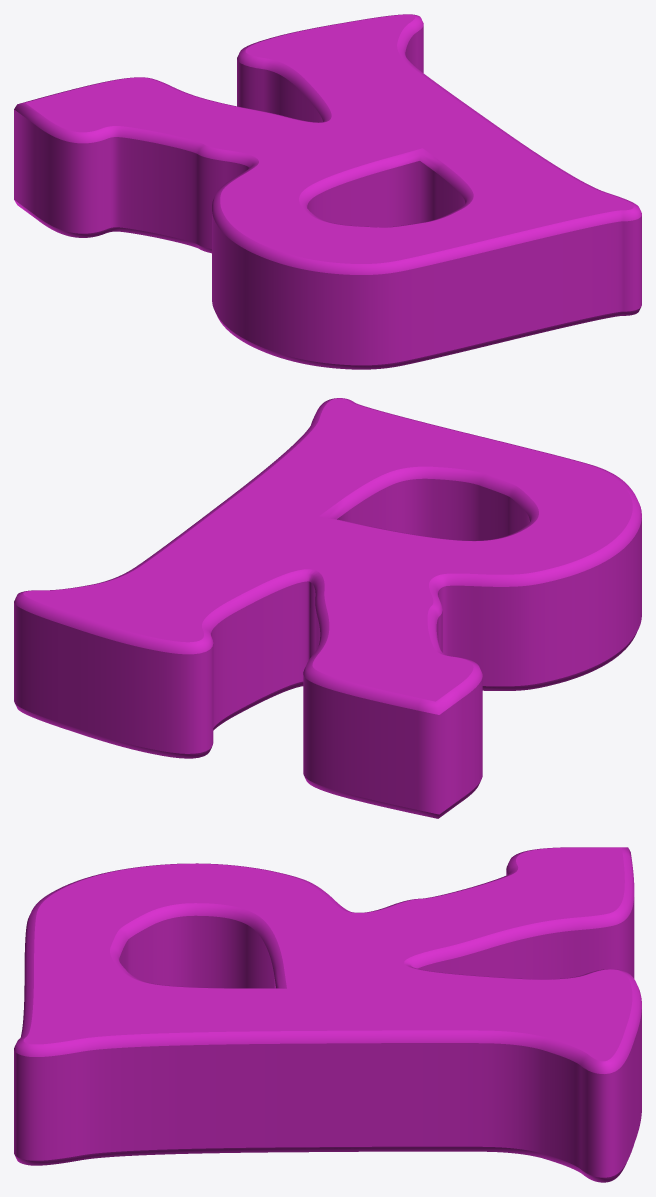
File: Bubble_LetterR.fbx
3 views of the same model, one above another, from view 1: azimuth 30°, elevation 25°; view 2: azimuth 150°, elevation 25°; view 3: azimuth 270°, elevation 25° (orthographic). The views are drawn at different scales.
Visible parts, largest first — view 1: BubbleLetter_R; view 2: BubbleLetter_R; view 3: BubbleLetter_R.
Part boxes in pixels (x1=…): BubbleLetter_R: x1=14, y1=14, x2=641, y2=369; BubbleLetter_R: x1=14, y1=398, x2=641, y2=818; BubbleLetter_R: x1=14, y1=847, x2=641, y2=1182.
Bounding box in the file's own units: 0.5513 × 0.14 × 0.6591.
